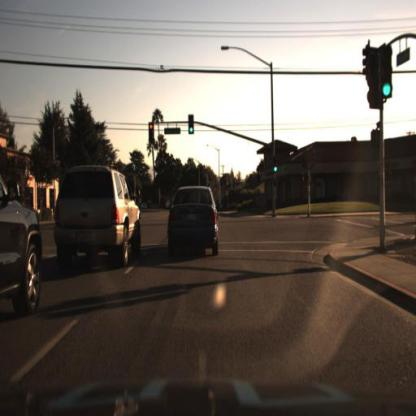car: (41, 161, 150, 286), (1, 148, 48, 337), (161, 181, 225, 271)
trafficLight-Green: (370, 42, 395, 104), (382, 77, 401, 106), (188, 113, 197, 136), (271, 160, 279, 180)
trafficLight-RedLeft: (148, 120, 158, 140)
